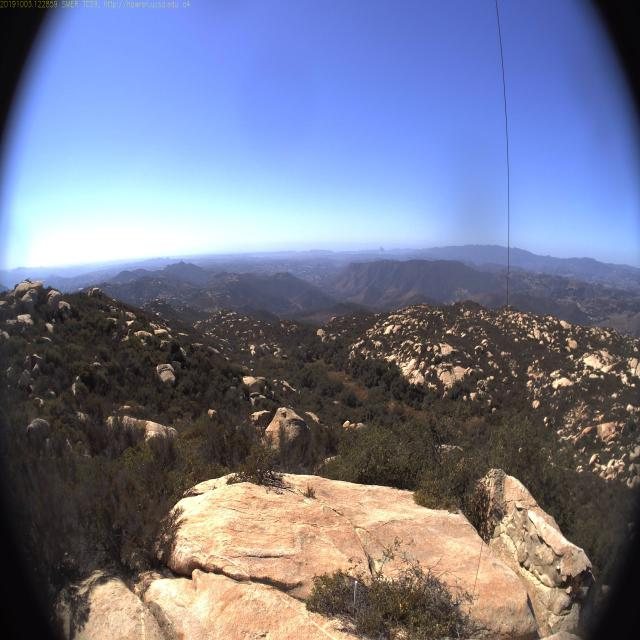smoke: (377, 240, 387, 262), (374, 243, 387, 258)
